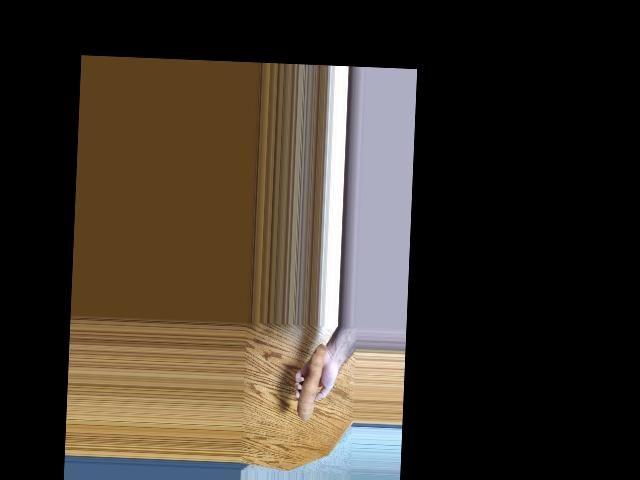sweet_potato: (292, 347, 329, 425)
